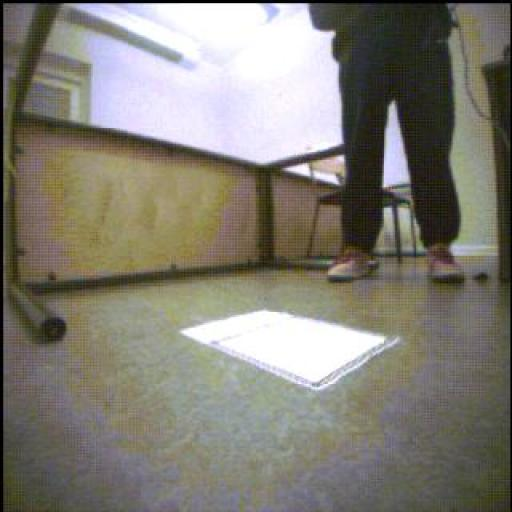Pad: (182, 312, 401, 392)
